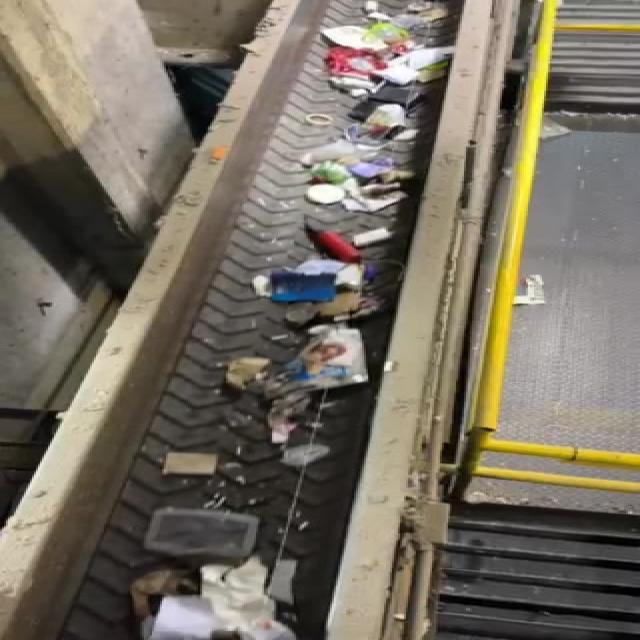pp: (139, 502, 269, 566)
